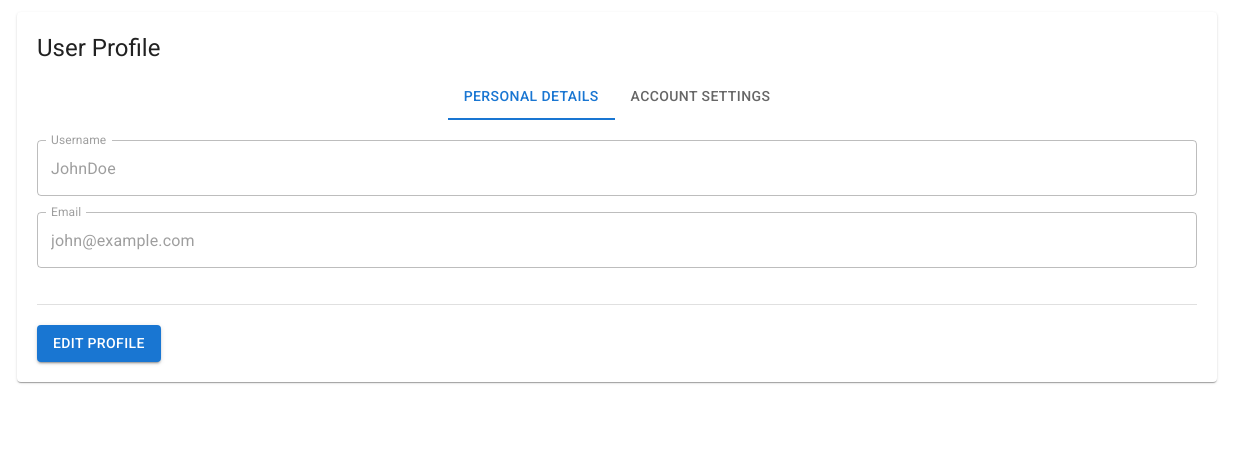
Test: UserProfile Component › Clicking 'Edit' button enables edit mode
Check: the field labelled "Username" is disabled, box [37,140,1197,196]
Check: the field labelled "Email" is disabled, box [37,212,1197,268]
Click "Edit Profile" button
Click the button "Edit Profile": (99, 344) [37,325,161,362]
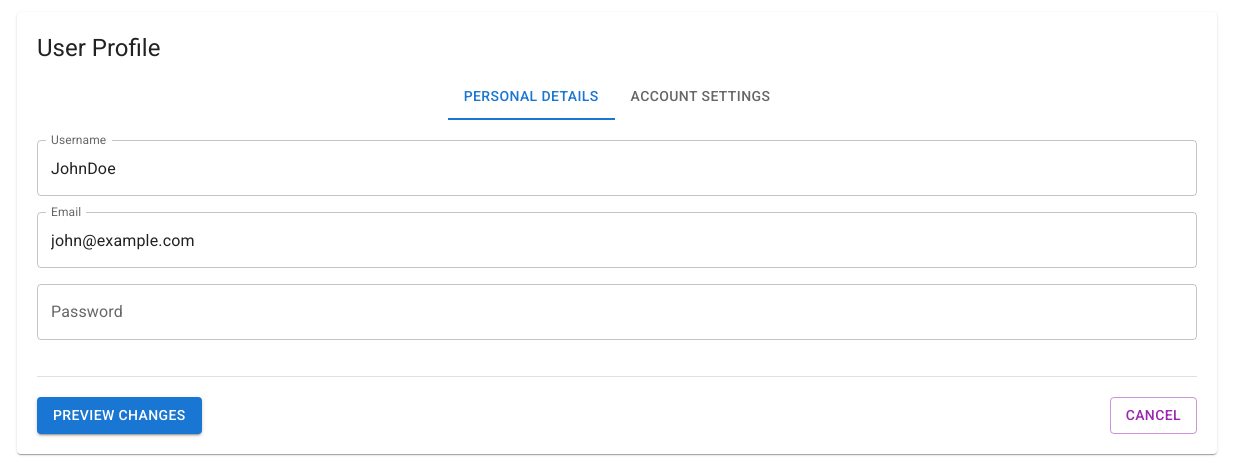
Check: the field labelled "Username" is enabled, box [37,140,1197,196]
Check: the field labelled "Email" is enabled, box [37,212,1197,268]
